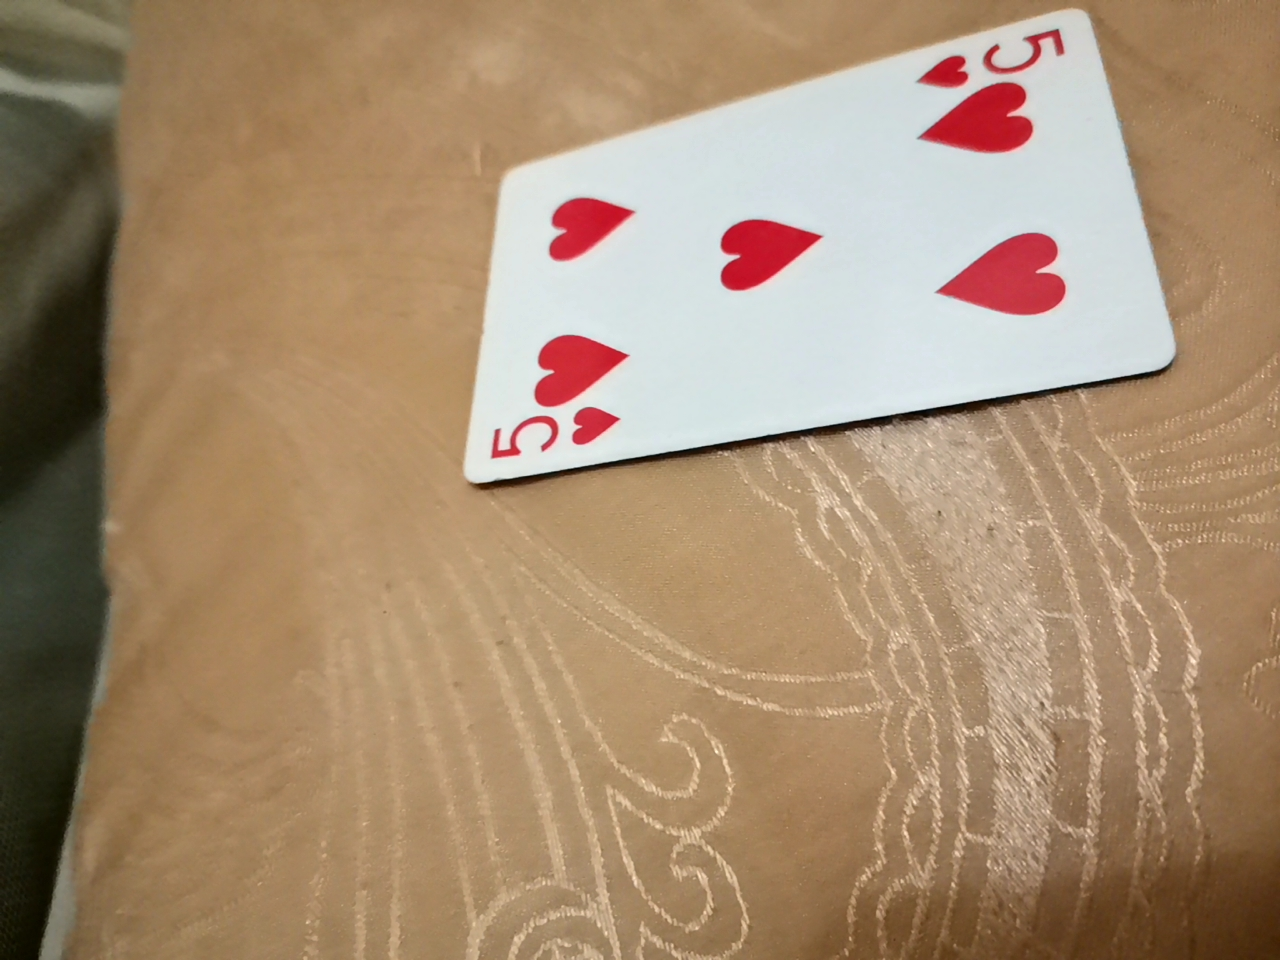hx 5: (436, 26, 1155, 504)
